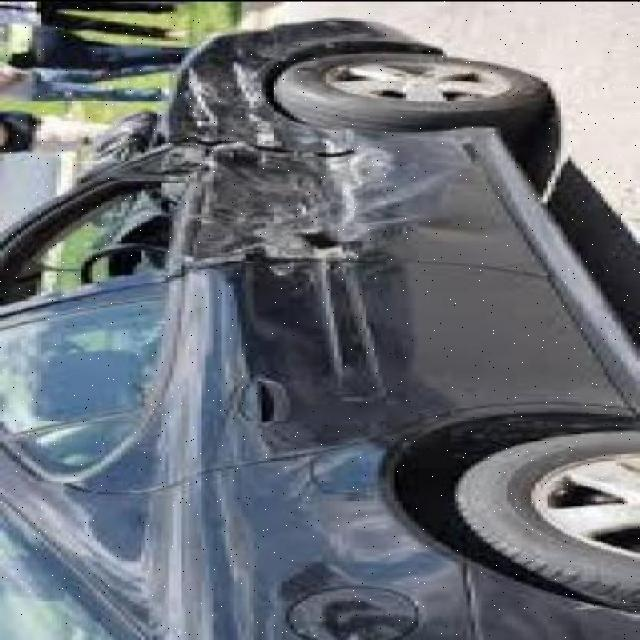damage: (68, 10, 401, 273)
